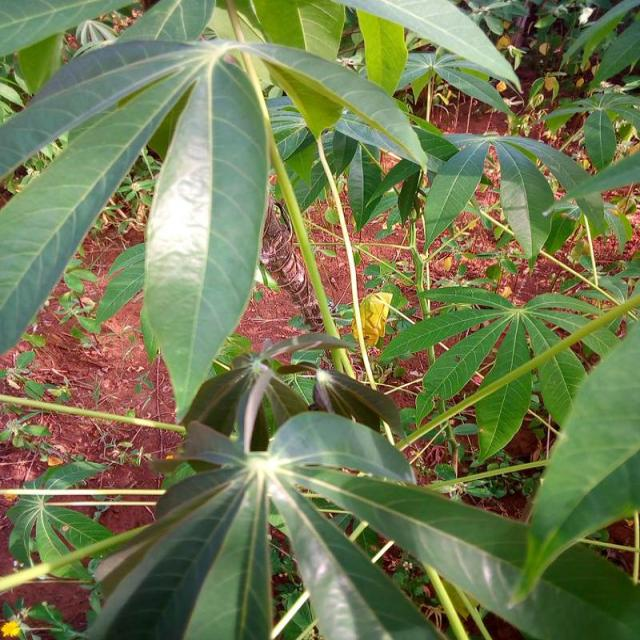cassava leaf: (140, 49, 270, 422)
